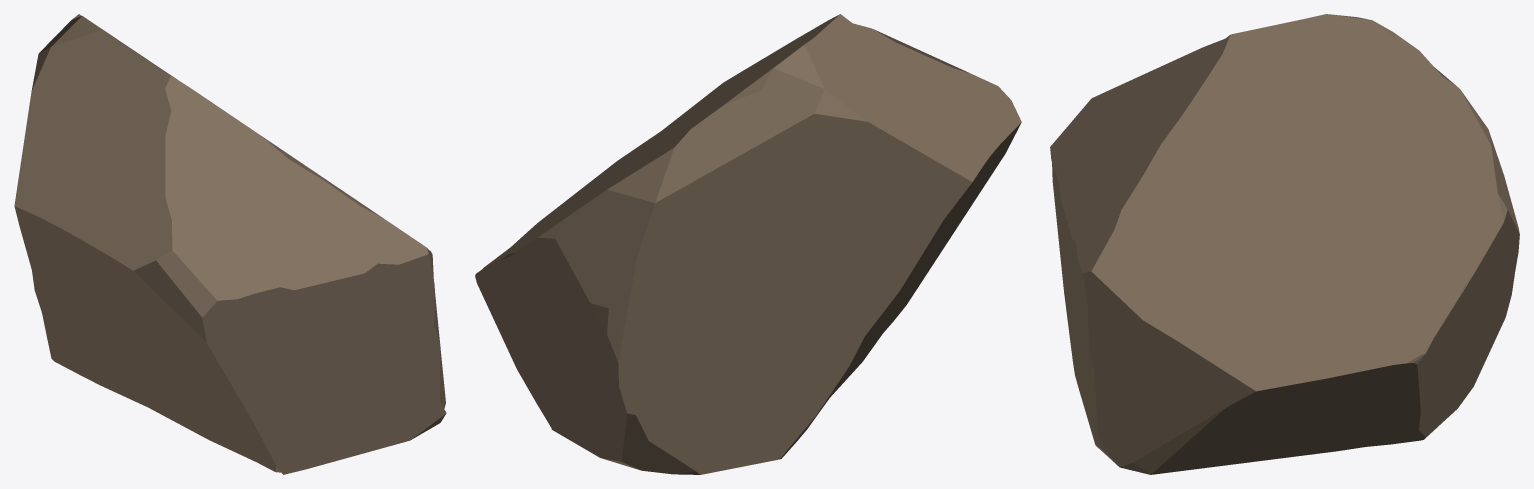
Rendered from rock_7.fbx.
3 views of the same model, side by side, from view 1: azimuth 30°, elevation 25°; view 2: azimuth 150°, elevation 25°; view 3: azimuth 270°, elevation 25° (orthographic). The views are drawn at different scales.
Parts seen in each view (by area): view 1: rock_7; view 2: rock_7; view 3: rock_7.
Boxes of the visible parts, x1=… form: rock_7: x1=14, y1=14, x2=446, y2=474; rock_7: x1=475, y1=14, x2=1021, y2=474; rock_7: x1=1050, y1=14, x2=1519, y2=474.
Size of the model in its own units: 2.27 by 1.98 by 2.41.
